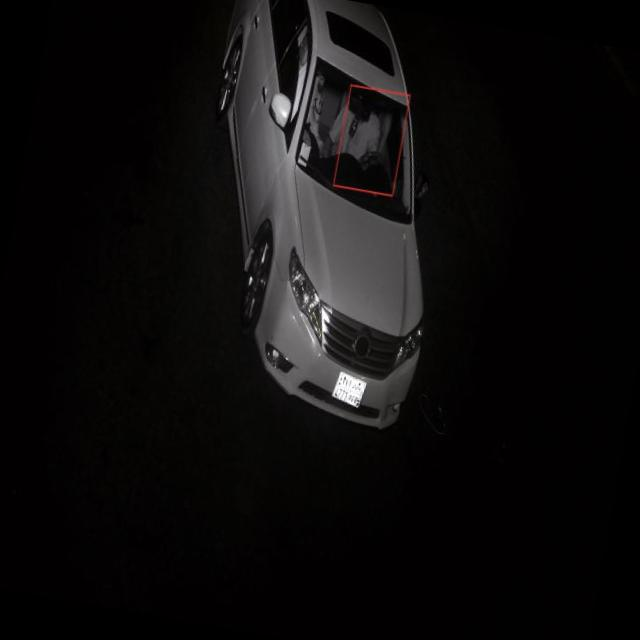person_without_seatbelt: (322, 78, 412, 198)
